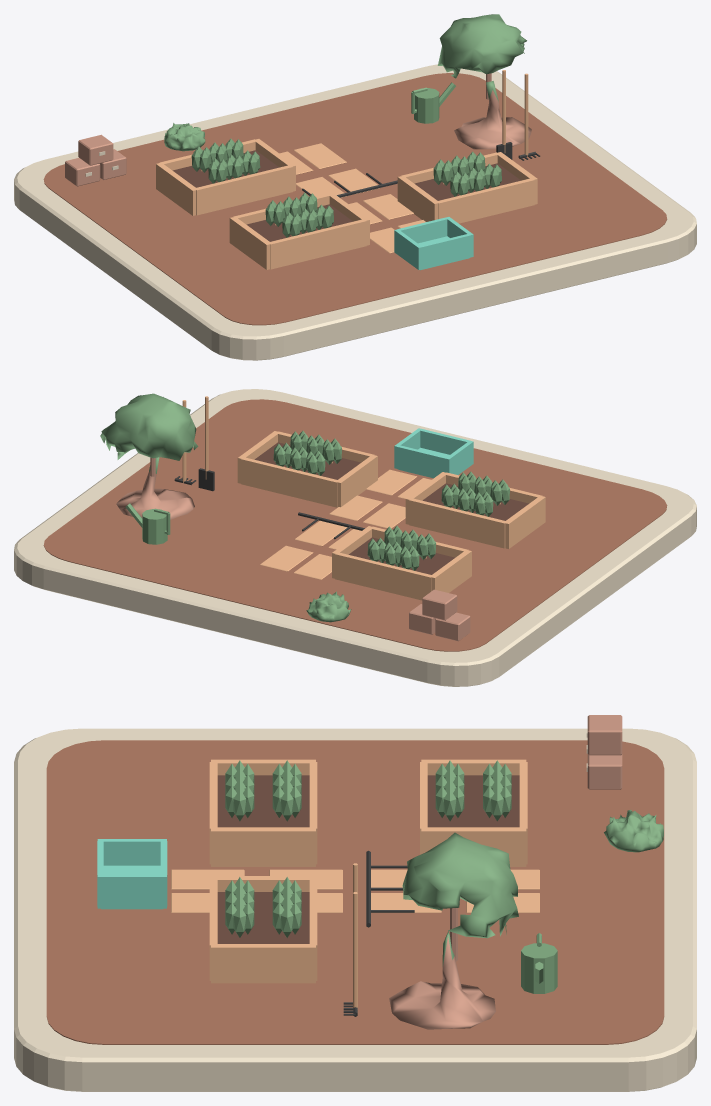
The picture shows the model from 3 angles, top to bottom: view 1: azimuth 30°, elevation 25°; view 2: azimuth 150°, elevation 25°; view 3: azimuth 270°, elevation 25°; orthographic projection. The views are drawn at different scales.
Visible parts, largest first — view 1: COM-02 Floor Surface, COM-01 Rounded Base Direct, 잎이 넓은 작은 나무, Border.010, Border.002, Border.006, Border, Border.008, Bin end, Border.004, 넓은 잎 풀 포기, Stacked case.002 (+15 smaller); view 2: COM-02 Floor Surface, COM-01 Rounded Base Direct, 잎이 넓은 작은 나무, Border.003, Border.007, Border.011, Border, Border.004, Bin end.001, Border.008, 넓은 잎 풀 포기, Stacked case.002 (+17 smaller); view 3: COM-02 Floor Surface, COM-01 Rounded Base Direct, 잎이 넓은 작은 나무, Border.001, Border.005, Soil.002, Soil, Soil.001, Bin side.001, Border.009, 넓은 잎 풀 포기, Can (+19 smaller).
Boxes of the visible parts, box(x1,y1,x2,y2) form: COM-02 Floor Surface: box(43, 73, 667, 325); COM-01 Rounded Base Direct: box(14, 64, 696, 360); 잎이 넓은 작은 나무: box(437, 14, 531, 149); Border.010: box(194, 165, 292, 215); Border.002: box(270, 219, 366, 269); Border.006: box(436, 178, 534, 223); Border: box(229, 217, 271, 269); Border.008: box(156, 162, 196, 215); Bin end: box(420, 234, 470, 269); Border.004: box(397, 175, 439, 221); 넓은 잎 풀 포기: box(164, 123, 205, 151); Stacked case.002: box(78, 134, 113, 165); COM-02 Floor Surface: box(43, 399, 667, 651); COM-01 Rounded Base Direct: box(14, 389, 696, 686); 잎이 넓은 작은 나무: box(100, 393, 198, 519); Border.003: box(409, 498, 506, 548); Border.007: box(241, 457, 339, 507); Border.011: box(335, 552, 431, 600); Border: box(504, 495, 545, 548); Border.004: box(335, 454, 377, 507); Bin end.001: box(397, 445, 448, 477); Border.008: box(429, 550, 471, 592); 넓은 잎 풀 포기: box(306, 591, 351, 622); Stacked case.002: box(422, 589, 457, 620); COM-02 Floor Surface: box(46, 740, 664, 1044); COM-01 Rounded Base Direct: box(14, 728, 696, 1091); 잎이 넓은 작은 나무: box(389, 832, 518, 1029); Border.001: box(211, 827, 315, 866); Border.005: box(211, 944, 315, 983); Soil.002: box(427, 775, 519, 827); Soil: box(217, 775, 309, 827); Soil.001: box(217, 892, 309, 943); Bin side.001: box(97, 874, 166, 908); Border.009: box(421, 827, 526, 866); 넓은 잎 풀 포기: box(604, 810, 663, 852); Can: box(521, 943, 557, 993).
Size of the model in its own units: 6 by 1.66 by 5.2.
Materials: 1 (1 with a texture image).
